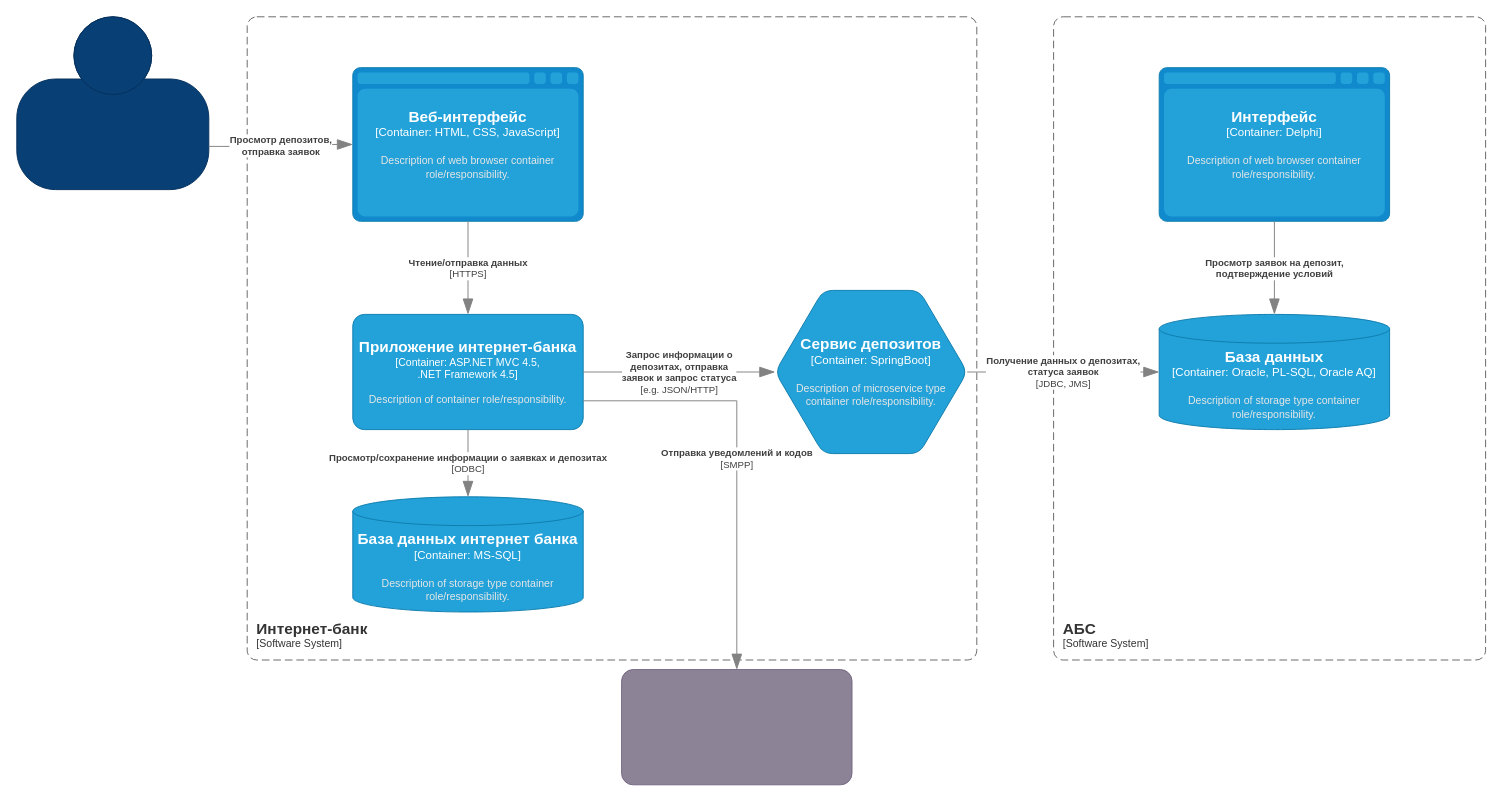
The diagram is 1502 pixels wide and 802 high, and some of its shapes have lost their labels. Here are the shapes that lost their labels. From the top down, the centre of each, then its label:
At point 112,103: "Клиент [Person] Description of person.".
At point 736,727: "СМС-шлюз [Software System] Description of external software system.".
